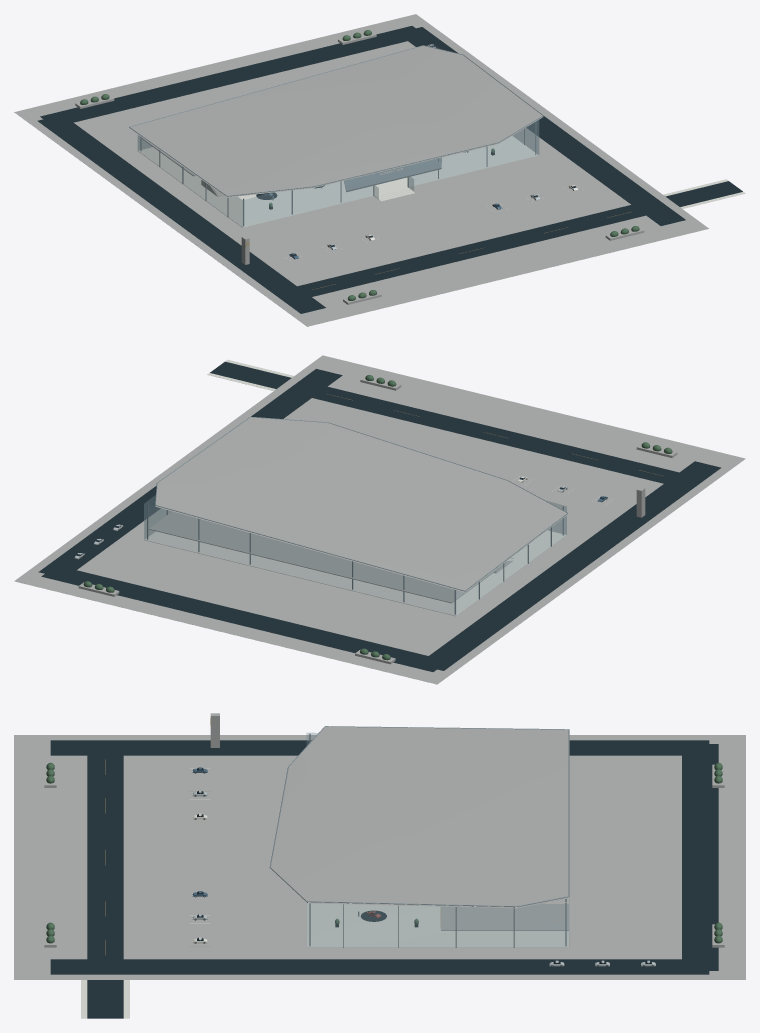
The model's file is dealership.glb.
3 renders of one model, top to bottom at view 1: azimuth 30°, elevation 25°; view 2: azimuth 150°, elevation 25°; view 3: azimuth 270°, elevation 25°, orthographic. The views are drawn at different scales.
Parts seen in each view (by area): view 1: GC-AUTO-001-concrete, GC-AUTO-001-dark, GC-AUTO-001-white, GC-AUTO-001-glass, GC-AUTO-001-steel, GC-AUTO-001-leaf; view 2: GC-AUTO-001-concrete, GC-AUTO-001-dark, GC-AUTO-001-glass, GC-AUTO-001-white, GC-AUTO-001-steel, GC-AUTO-001-leaf; view 3: GC-AUTO-001-concrete, GC-AUTO-001-dark, GC-AUTO-001-glass, GC-AUTO-001-white, GC-AUTO-001-steel, GC-AUTO-001-leaf.
Part boxes in pixels (box(x1,y1,x2,y2)): GC-AUTO-001-concrete: box(14, 14, 708, 326); GC-AUTO-001-dark: box(37, 26, 742, 313); GC-AUTO-001-white: box(138, 136, 745, 261); GC-AUTO-001-glass: box(137, 44, 539, 227); GC-AUTO-001-steel: box(129, 45, 543, 226); GC-AUTO-001-leaf: box(80, 30, 639, 300); GC-AUTO-001-concrete: box(14, 355, 745, 684); GC-AUTO-001-dark: box(38, 361, 721, 671); GC-AUTO-001-glass: box(144, 495, 566, 615); GC-AUTO-001-white: box(144, 359, 612, 616); GC-AUTO-001-steel: box(147, 416, 568, 614); GC-AUTO-001-leaf: box(83, 375, 672, 660); GC-AUTO-001-concrete: box(14, 713, 745, 979); GC-AUTO-001-dark: box(50, 740, 718, 1018); GC-AUTO-001-glass: box(306, 733, 568, 946); GC-AUTO-001-white: box(81, 768, 568, 1018); GC-AUTO-001-steel: box(195, 726, 653, 966); GC-AUTO-001-leaf: box(46, 762, 722, 943).
Size of the model in its own units: 220 by 17.8 by 240.
